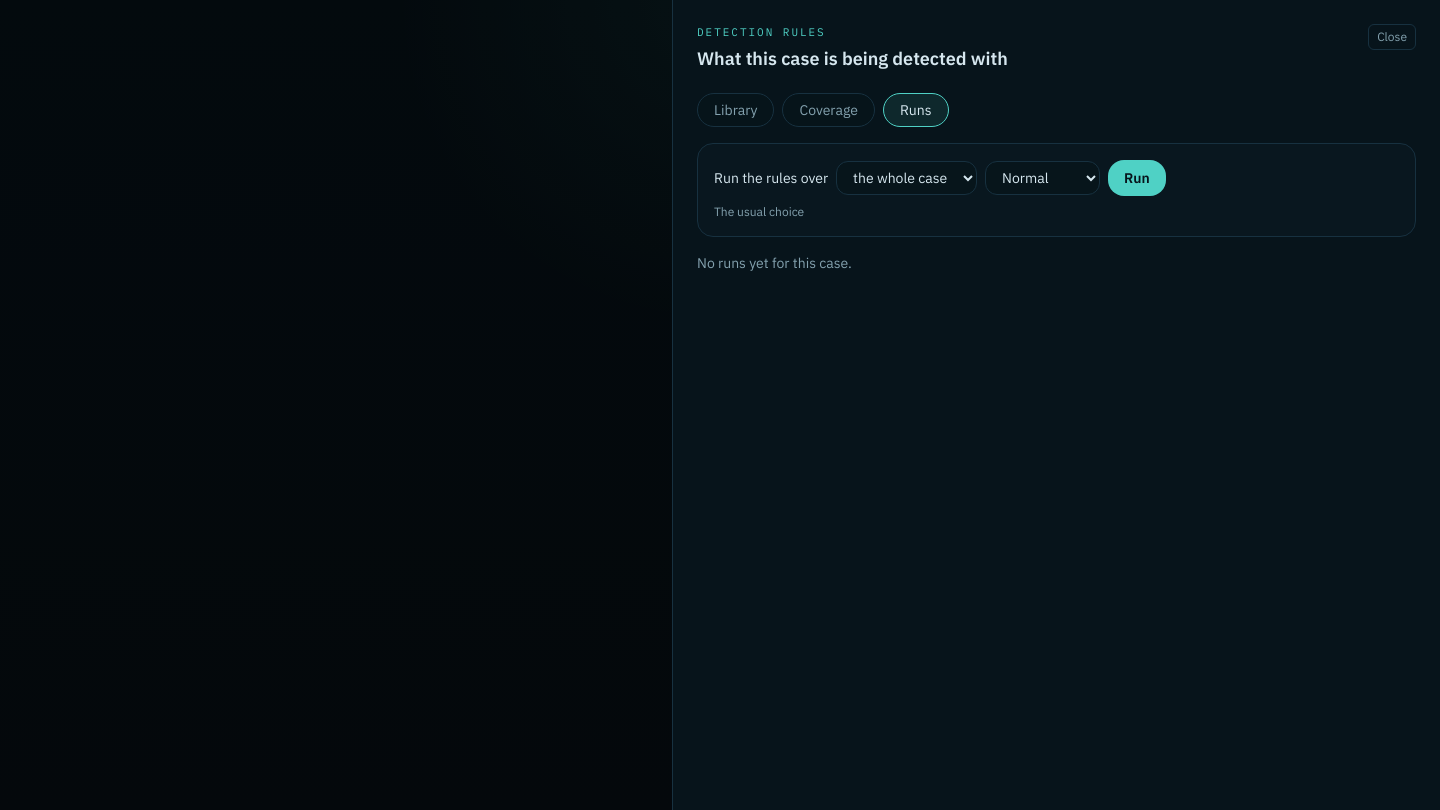
Test case: Run scope › says what the run was scoped to, so a narrow run is not mistaken for a full one
This screenshot has width=1440, height=810.
Select "WS01" in the dropdown with test id "rules-panel-scope" at (907, 178), box [836,160,977,194]
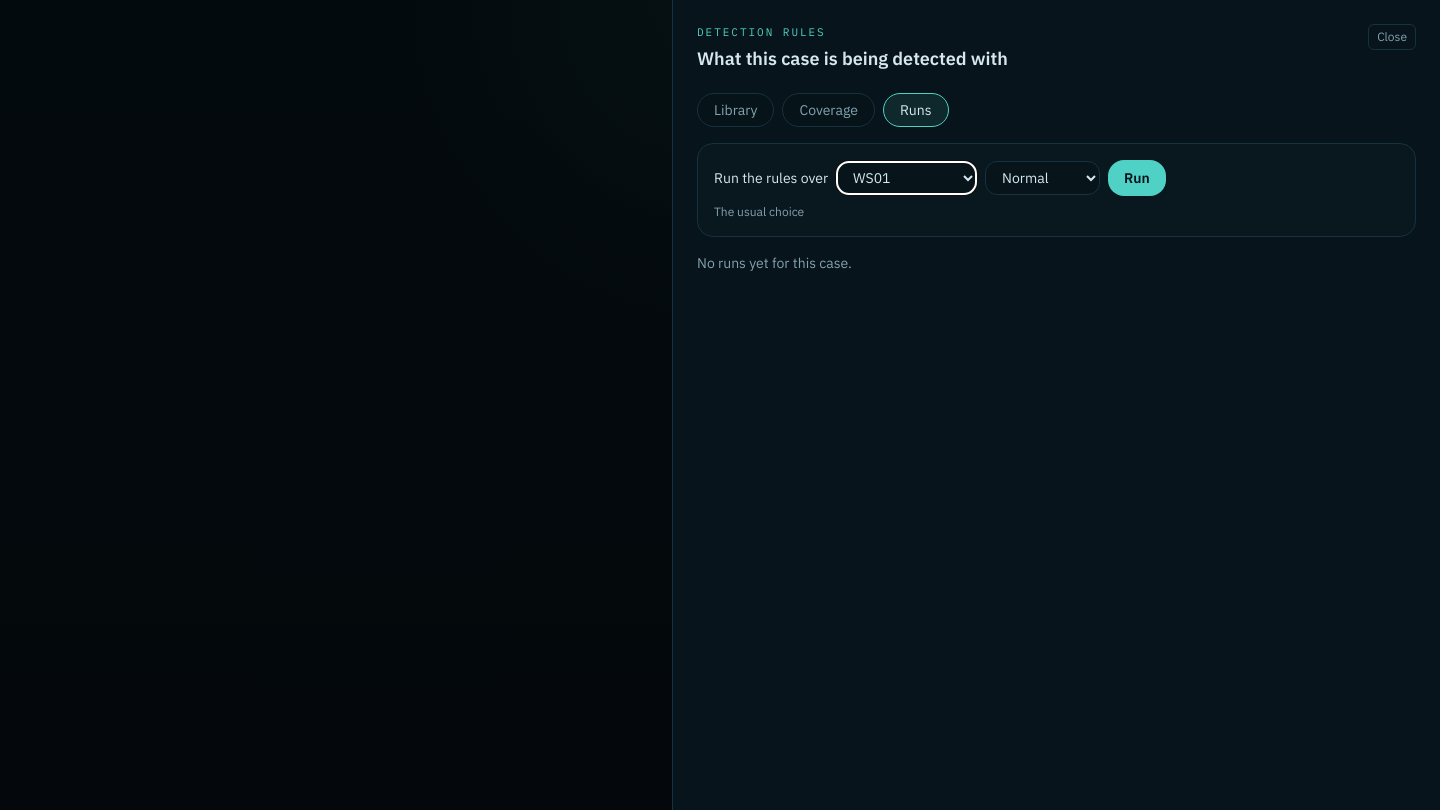
Click the button with test id "rules-panel-run".
click(1137, 178)  # box [1108,160,1166,196]
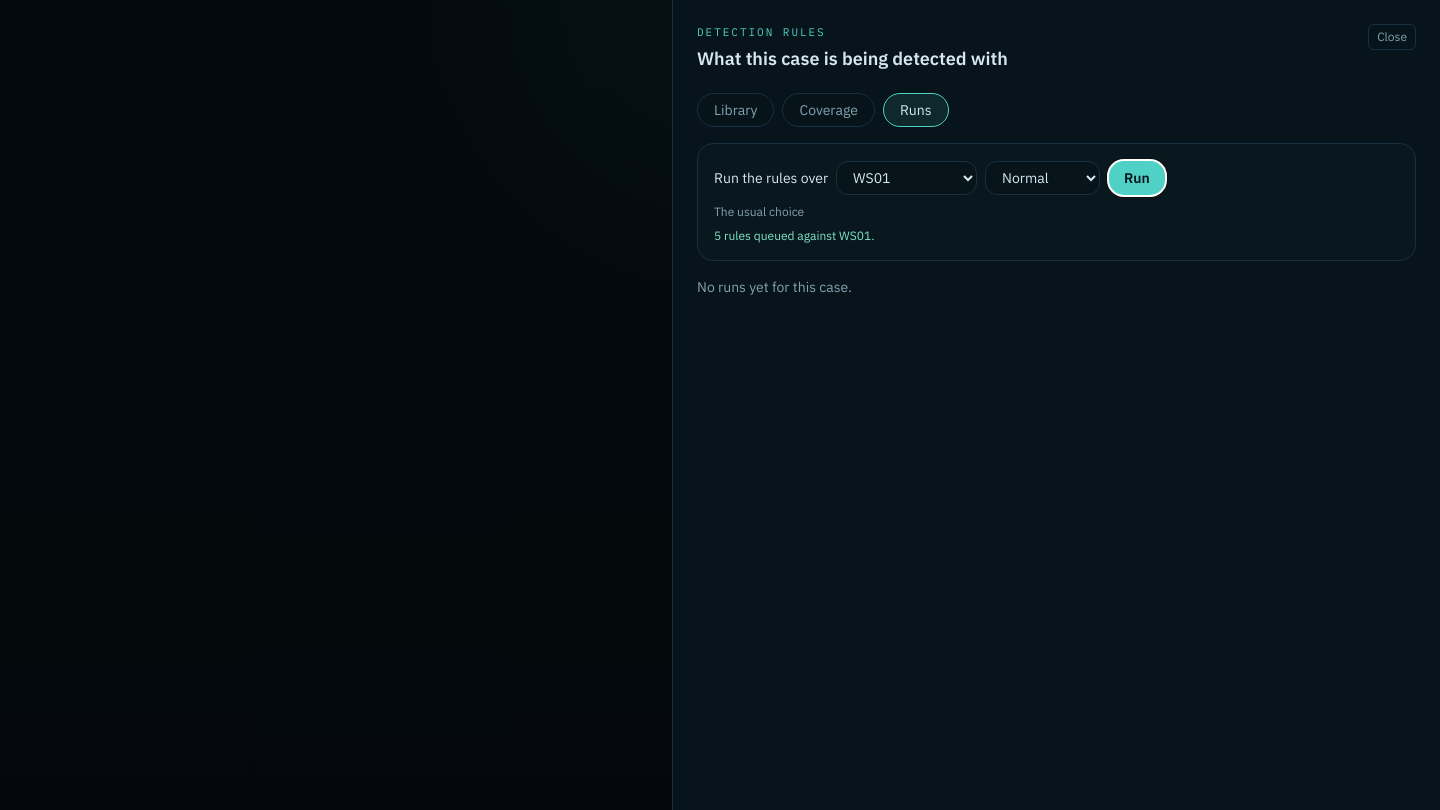
Result: the text with test id "rules-panel-run-message" shows "WS01" at [714,228,874,242]
